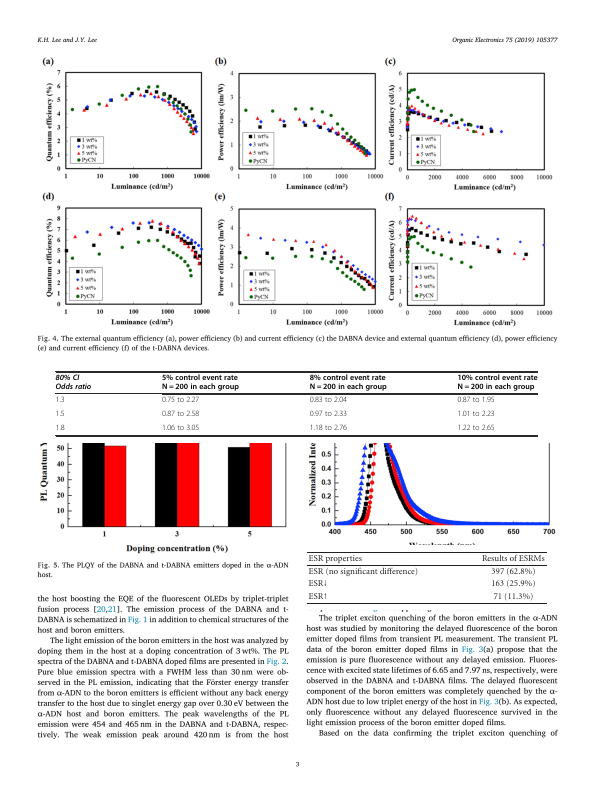borderless: (54, 370, 537, 435), (305, 550, 547, 603)
cell: (457, 374, 538, 392), (161, 374, 240, 392), (309, 374, 388, 392), (307, 567, 419, 577), (481, 554, 546, 564), (55, 374, 92, 391), (307, 554, 363, 564), (492, 591, 534, 602), (490, 567, 536, 577), (490, 579, 536, 589), (161, 397, 200, 404), (309, 397, 348, 404), (457, 397, 496, 404), (161, 411, 200, 418), (309, 411, 348, 418), (457, 411, 496, 418), (161, 425, 200, 432), (309, 425, 348, 432), (457, 425, 496, 432), (307, 591, 329, 602), (307, 579, 329, 589), (55, 397, 65, 404), (55, 411, 65, 418), (55, 425, 65, 432)
